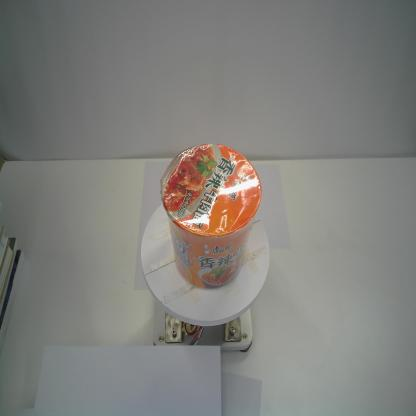Instant Noodles: (160, 142, 262, 289)
